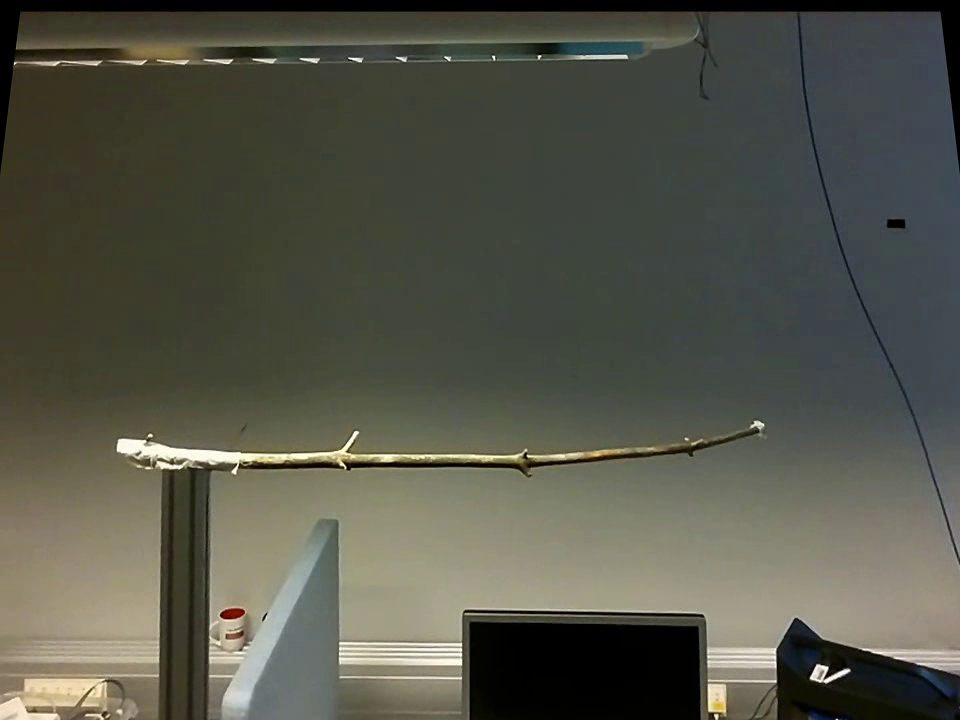aluminum_frame: (151, 473, 215, 718)
branch: (244, 420, 749, 484)
